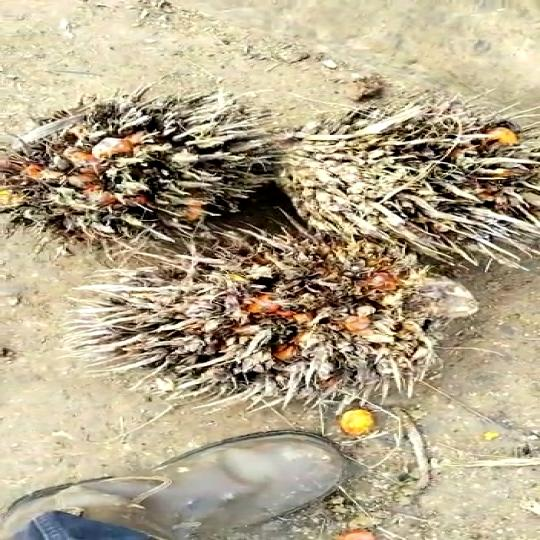terlalu masak: (60, 244, 455, 405), (258, 113, 540, 260), (0, 97, 284, 231)
